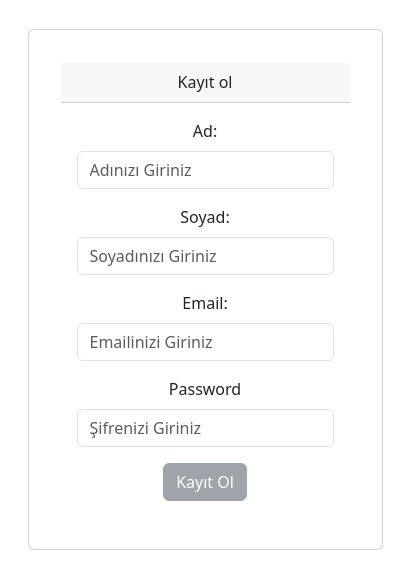
Register Page › Error Messages › Email input throws error for emre@wit
Type "emre@wit" into the field with test id "email-input" at (206, 342), box 77,323 -> 334,361
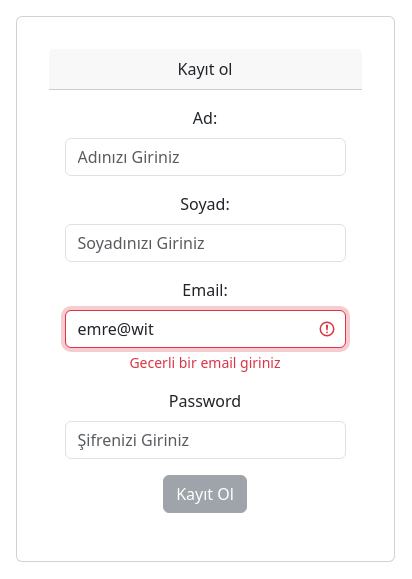
Expected: the text "Gecerli bir email giriniz" is shown, 129,353 -> 281,372
